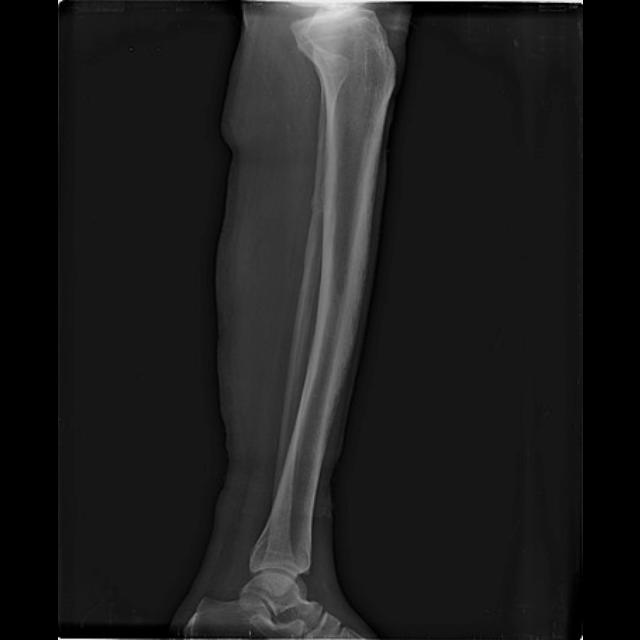Fracture: (308, 170, 327, 225)
